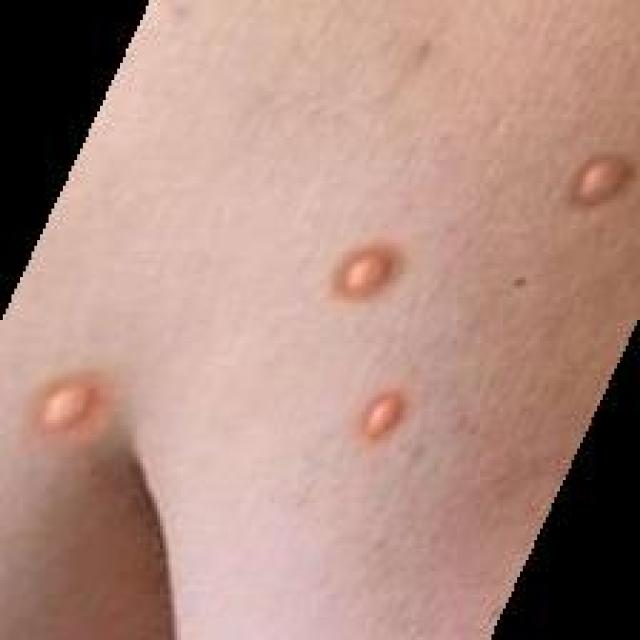monkeypox: (12, 62, 640, 609)
